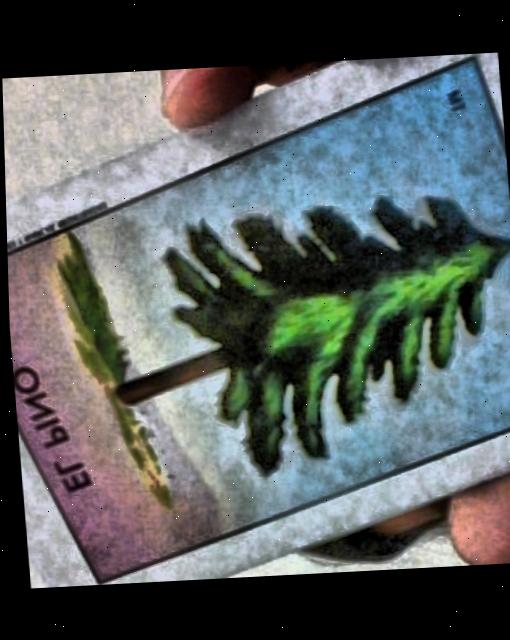El Pino: (6, 61, 510, 579)
